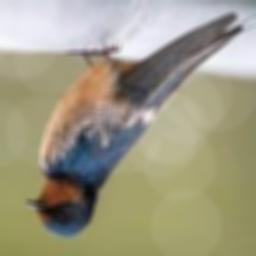Swallow: (27, 12, 256, 239)
